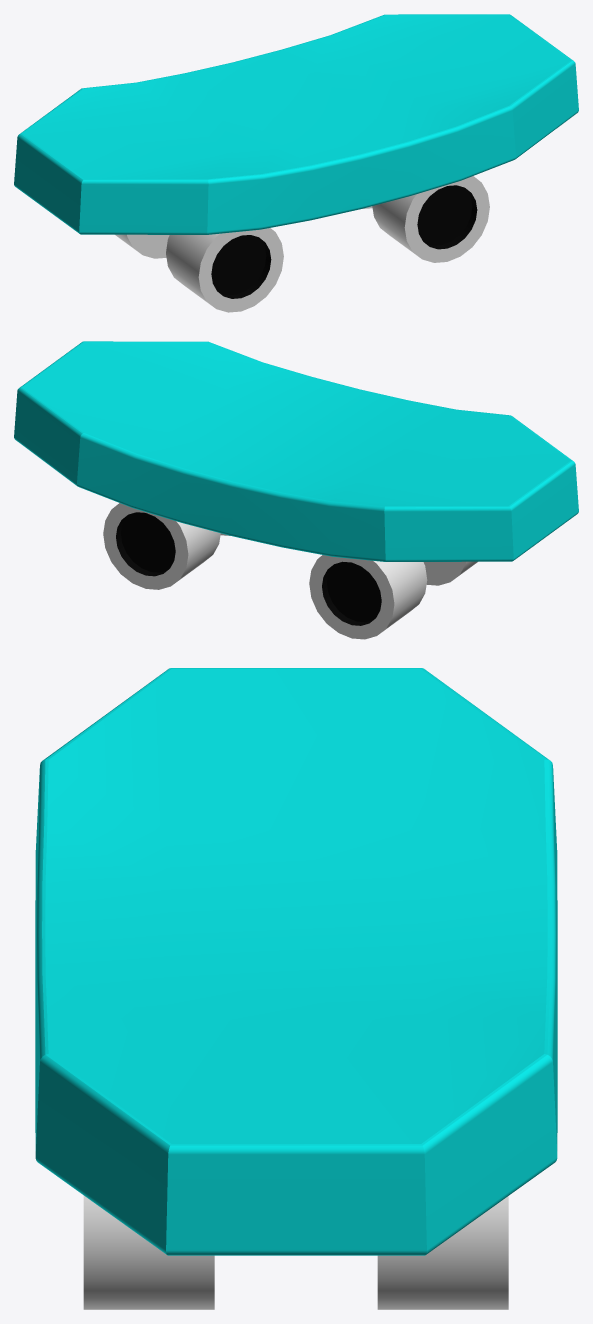
File: sket.fbx
3 renders of one model, top to bottom at view 1: azimuth 30°, elevation 25°; view 2: azimuth 150°, elevation 25°; view 3: azimuth 270°, elevation 25°, orthographic. The views are drawn at different scales.
Parts seen in each view (by area): view 1: pCube4, pCylinder3, pCylinder4, pCylinder6; view 2: pCube4, pCylinder6, pCylinder5, pCylinder3; view 3: pCube4, pCylinder4, pCylinder5.
Boxes of the visible parts, bbox=[...] form: pCube4: bbox=[14, 14, 578, 234]; pCylinder3: bbox=[166, 228, 283, 312]; pCylinder4: bbox=[372, 176, 489, 262]; pCylinder6: bbox=[115, 234, 169, 258]; pCube4: bbox=[14, 341, 578, 561]; pCylinder6: bbox=[309, 555, 427, 639]; pCylinder5: bbox=[103, 503, 220, 589]; pCylinder3: bbox=[423, 561, 477, 585]; pCube4: bbox=[35, 668, 557, 1255]; pCylinder4: bbox=[83, 1195, 214, 1309]; pCylinder5: bbox=[377, 1196, 508, 1309].
Bounding box in the file's own units: 8.3 × 2.38 × 3.76.
